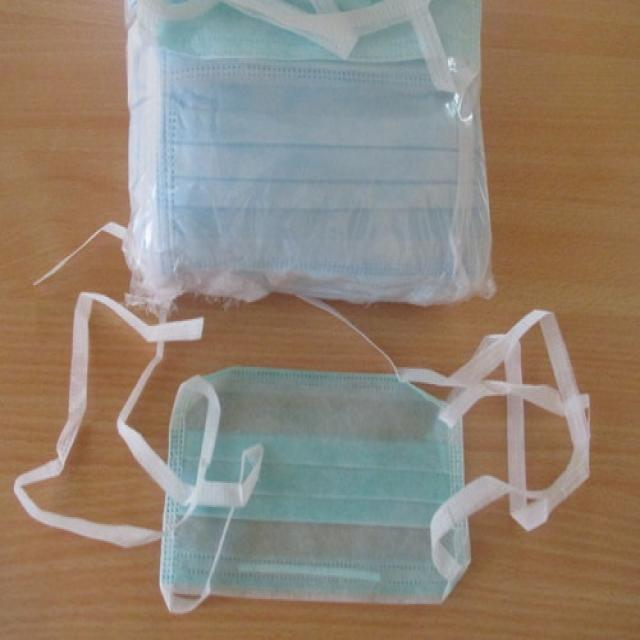non-organic waste: (21, 297, 602, 637)
